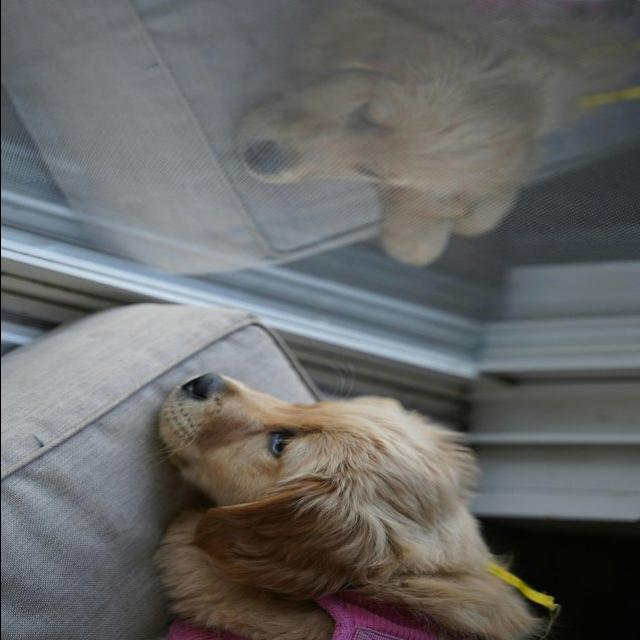retriever: (151, 370, 560, 640)
